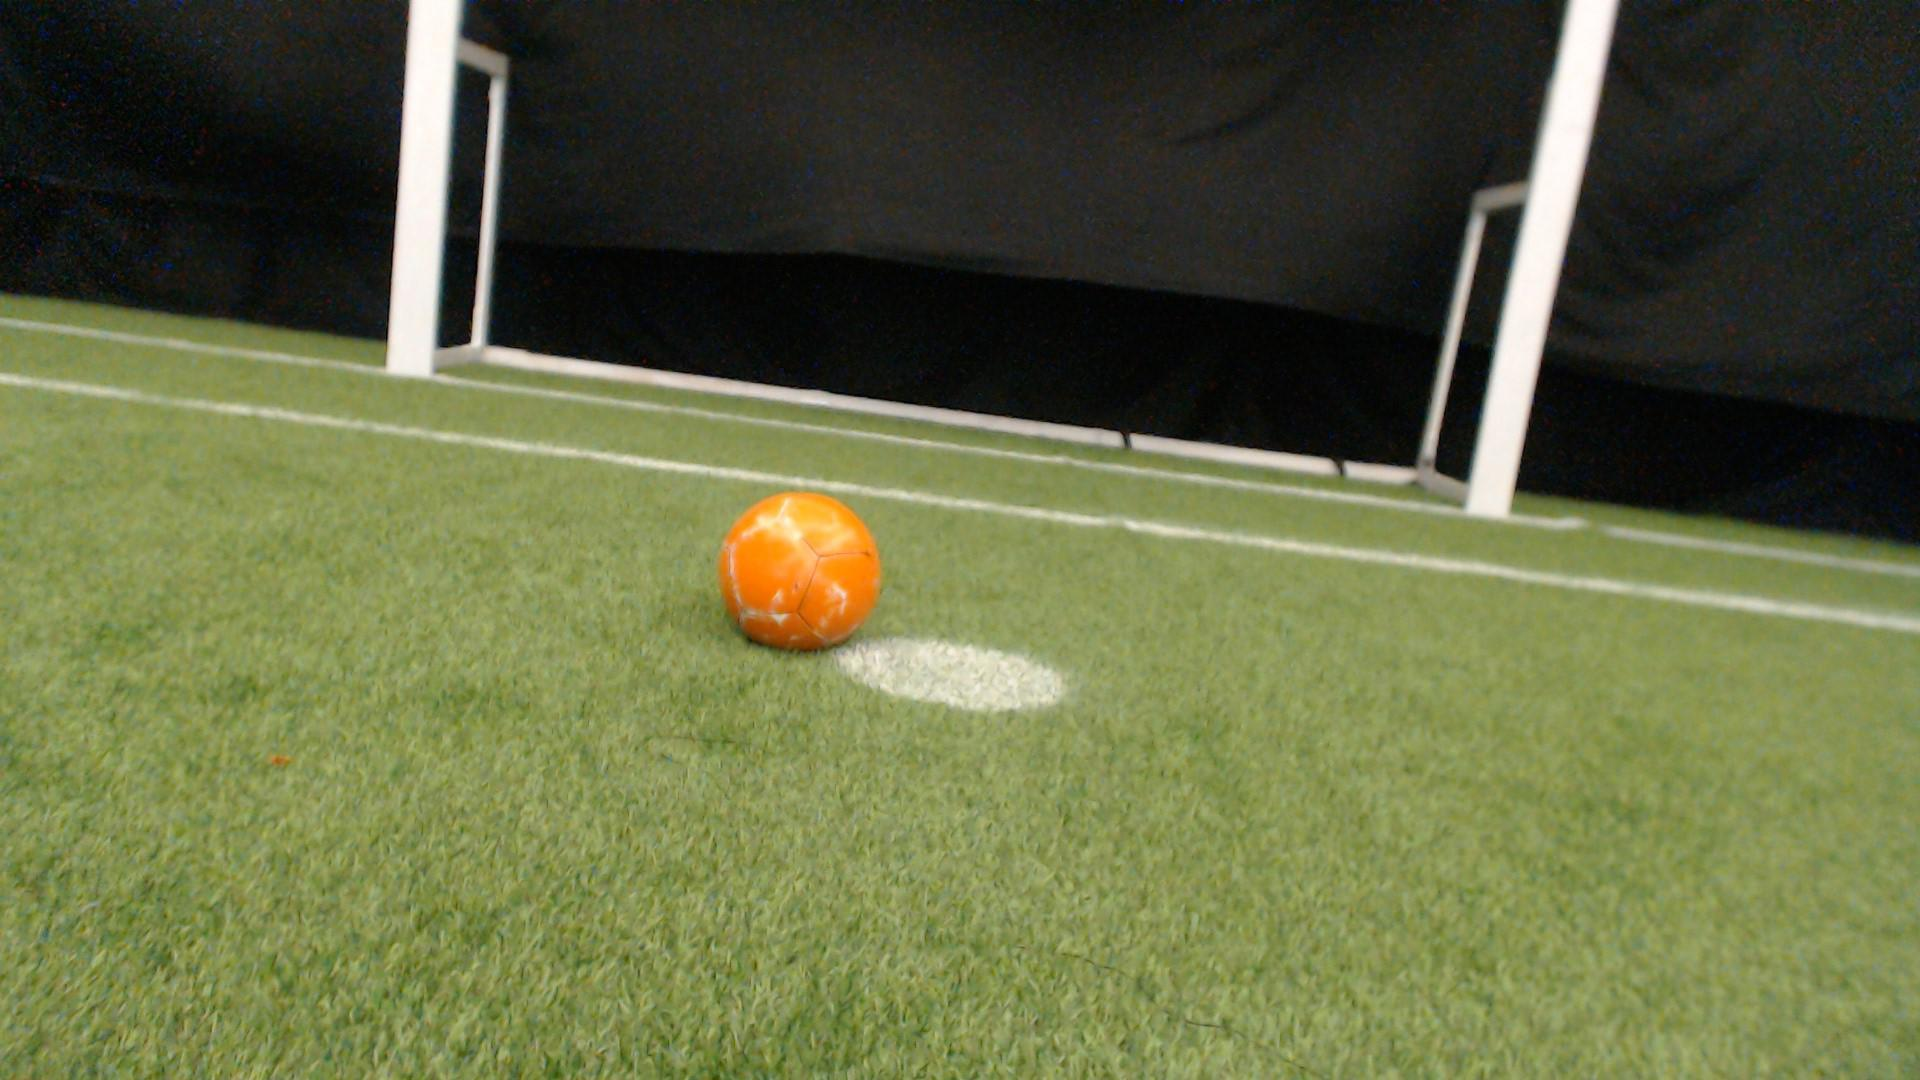bola: (708, 465, 895, 670)
